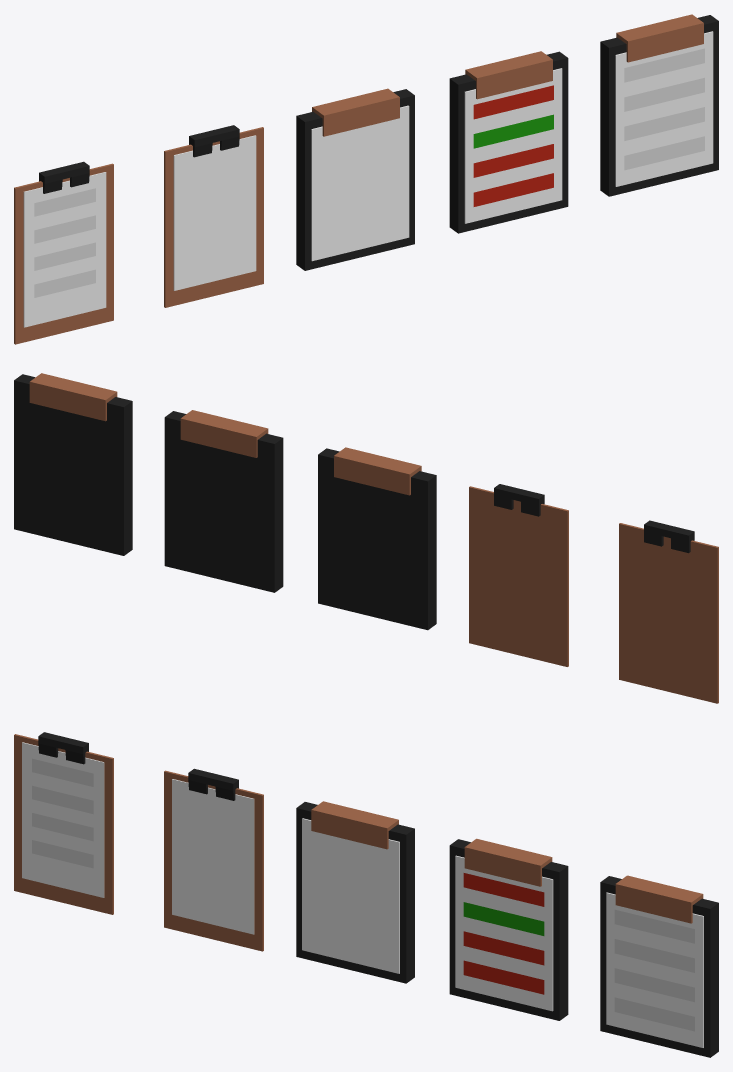
Rendered from low_poly_clipboards.glb.
The picture shows the model from 3 angles, top to bottom: view 1: azimuth 30°, elevation 25°; view 2: azimuth 150°, elevation 25°; view 3: azimuth 330°, elevation 25°; orthographic projection.
Visible parts, largest first — view 1: Paper + Board 2.1, Paper + Board 2, Paper + Board 2.2, Paper + Board, Paper + Board 1.1, Clip 2, Clip 2.2, Clip 2.1, Clip 1.1, Clip; view 2: Paper + Board 2.1, Paper + Board 2, Paper + Board 2.2, Paper + Board, Paper + Board 1.1, Clip 2.1, Clip 2.2, Clip 2, Clip 1.1, Clip; view 3: Paper + Board 2.1, Paper + Board 2.2, Paper + Board 2, Paper + Board 1.1, Paper + Board, Clip 2.1, Clip 2.2, Clip 2, Clip 1.1, Clip.
Boxes of the visible parts, x1,y1,x2,y2 form: Paper + Board 2.1: [449, 51, 568, 233]; Paper + Board 2: [296, 89, 414, 270]; Paper + Board 2.2: [600, 15, 718, 196]; Paper + Board: [164, 127, 263, 307]; Paper + Board 1.1: [14, 163, 113, 344]; Clip 2: [312, 88, 399, 136]; Clip 2.2: [616, 14, 703, 62]; Clip 2.1: [465, 51, 552, 99]; Clip 1.1: [39, 161, 89, 193]; Clip: [189, 125, 239, 157]; Paper + Board 2.1: [164, 411, 283, 592]; Paper + Board 2: [318, 448, 436, 630]; Paper + Board 2.2: [14, 374, 132, 555]; Paper + Board: [469, 486, 568, 666]; Paper + Board 1.1: [619, 523, 718, 703]; Clip 2.1: [180, 410, 268, 457]; Clip 2.2: [29, 373, 117, 421]; Clip 2: [334, 447, 421, 495]; Clip 1.1: [644, 520, 694, 553]; Clip: [494, 484, 544, 516]; Paper + Board 2.1: [449, 839, 568, 1020]; Paper + Board 2.2: [600, 876, 718, 1057]; Paper + Board 2: [296, 802, 414, 983]; Paper + Board 1.1: [14, 734, 113, 914]; Paper + Board: [164, 770, 263, 951]; Clip 2.1: [464, 838, 552, 886]; Clip 2.2: [615, 875, 703, 923]; Clip 2: [311, 801, 398, 849]; Clip 1.1: [38, 732, 88, 764]; Clip: [188, 768, 238, 800].
Bounding box in the file's own units: 24.01 × 5.35 × 0.6973.
